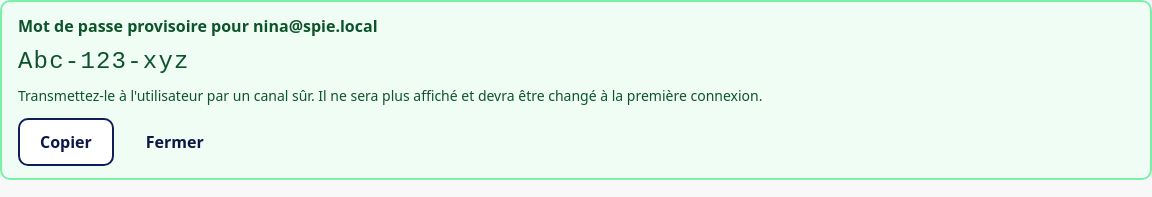
Test: TemporaryPassword : copie avec retour visible (anomalie 16) › « Copié ✓ » si le presse-papiers accepte ; message explicite s'il refuse
Later steps or results of the test are not shown.
Click the button "Copier" at coordinates (66, 142), box [18,118,114,166]
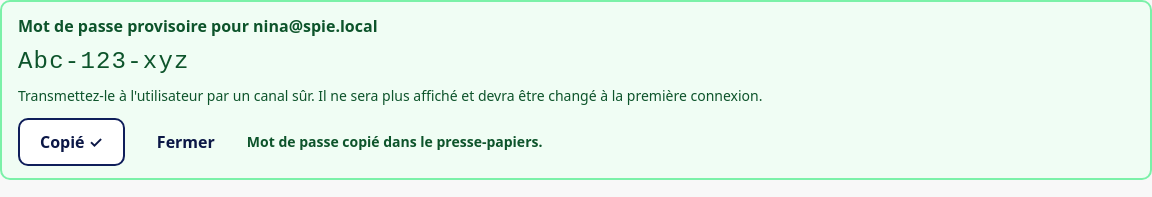
Check: the button "Copié ✓" is shown, box [18,118,125,166]
Check: the text "Mot de passe copié dans le presse-papiers." is shown, box [247,132,542,152]
